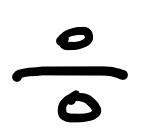div: (12, 27, 128, 123)
